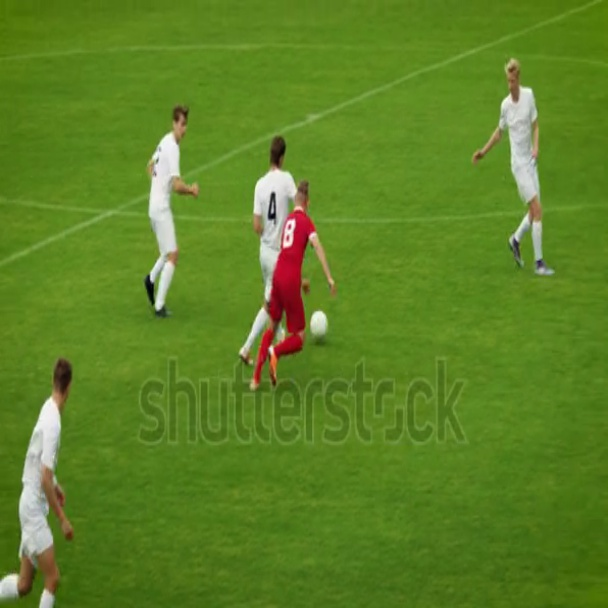ball: (312, 307, 329, 342)
